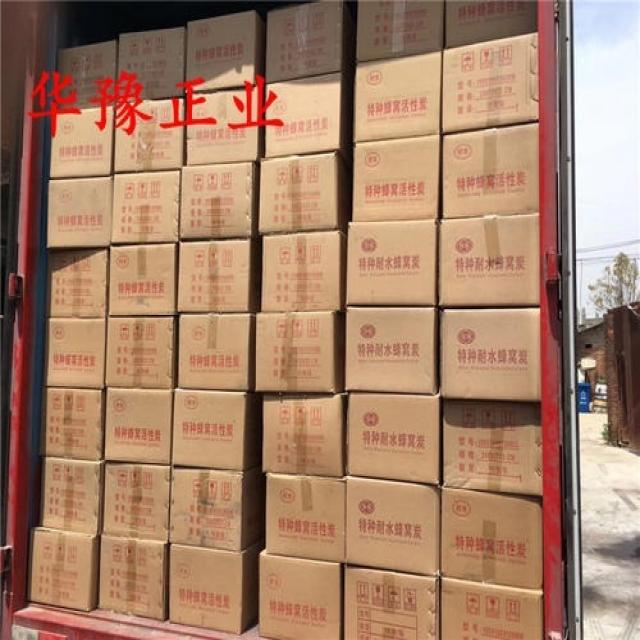box: (440, 488, 543, 589), (442, 32, 538, 134), (442, 399, 541, 496), (439, 213, 540, 308), (442, 122, 539, 218), (346, 476, 440, 575), (440, 308, 540, 401), (346, 392, 440, 485), (169, 464, 266, 551), (344, 308, 439, 393), (346, 219, 438, 306), (169, 544, 257, 634), (353, 51, 440, 141), (352, 135, 440, 221), (257, 151, 347, 234), (259, 550, 340, 640), (172, 389, 262, 470), (265, 73, 351, 157), (343, 565, 439, 640), (256, 311, 343, 392), (262, 393, 346, 476), (266, 0, 352, 81), (266, 475, 346, 562), (261, 231, 347, 311), (440, 576, 543, 640), (179, 161, 260, 239), (186, 10, 262, 93), (97, 536, 170, 621), (27, 527, 99, 612), (177, 238, 259, 312), (187, 84, 262, 164), (178, 313, 255, 390), (100, 461, 170, 543), (357, 0, 444, 62), (104, 386, 173, 464), (38, 457, 104, 536), (114, 99, 186, 171), (105, 316, 178, 387), (108, 242, 178, 315), (111, 170, 180, 244), (116, 26, 184, 100), (38, 386, 105, 460), (47, 176, 113, 248), (50, 106, 114, 177), (445, 0, 536, 48), (56, 39, 115, 112), (44, 318, 106, 387), (47, 248, 109, 316)
